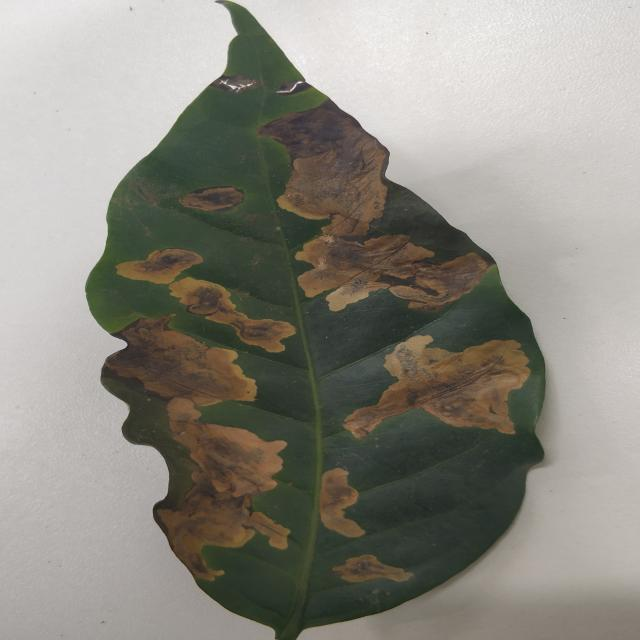Plaga-Minador: (84, 0, 548, 640)
